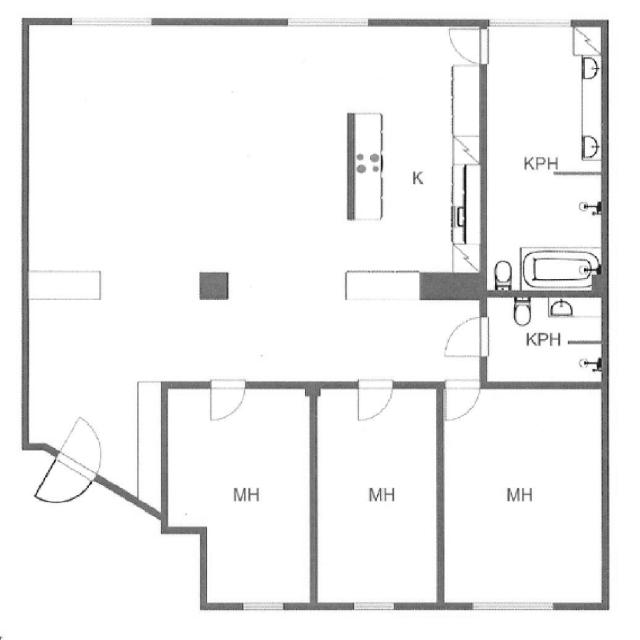door: (44, 411, 105, 506), (436, 311, 492, 364), (206, 378, 248, 427), (441, 378, 484, 425), (353, 377, 394, 426), (445, 24, 489, 69)
window: (66, 11, 156, 35), (467, 596, 557, 618), (283, 14, 372, 34), (486, 16, 574, 34), (237, 598, 290, 618), (348, 599, 400, 616)
zone: (25, 21, 485, 385), (442, 377, 609, 609), (475, 21, 608, 301), (168, 383, 316, 606), (314, 383, 442, 607), (480, 291, 607, 390), (510, 246, 603, 297)
